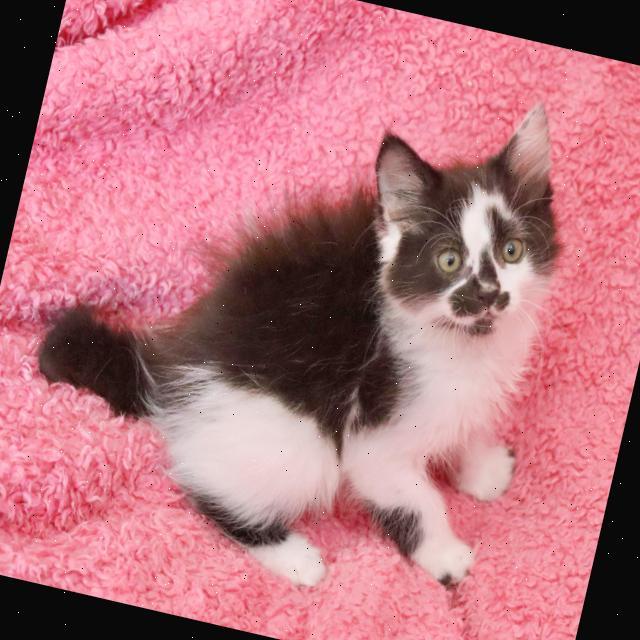maine_coon_cat: (328, 61, 598, 384)
